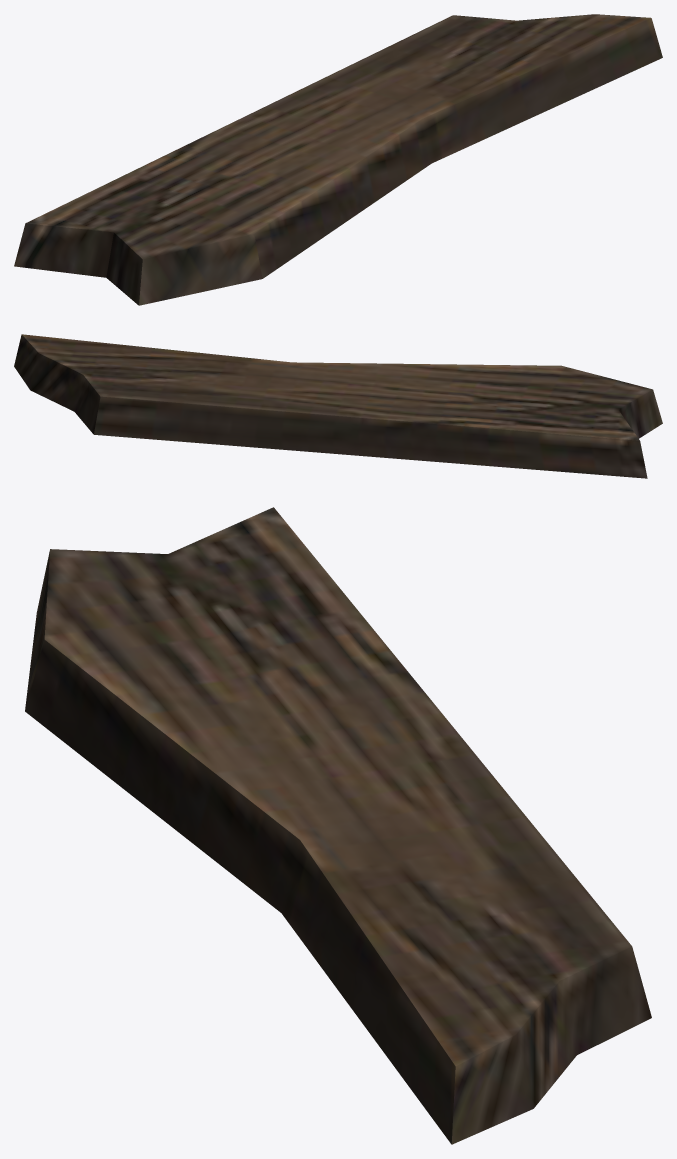
File: Treasure_Wood_01.FBX
3 views of the same model, one above another, from view 1: azimuth 30°, elevation 25°; view 2: azimuth 150°, elevation 25°; view 3: azimuth 270°, elevation 25° (orthographic). The views are drawn at different scales.
Visible parts, largest first — view 1: Treasure_Wood_01; view 2: Treasure_Wood_01; view 3: Treasure_Wood_01.
Boxes of the visible parts, left/top/right/bottom form: Treasure_Wood_01: left=14, top=14, right=662, bottom=305; Treasure_Wood_01: left=14, top=334, right=662, bottom=478; Treasure_Wood_01: left=25, top=507, right=651, bottom=1144.
Size of the model in its own units: 1.73 by 0.0982 by 0.7976.
